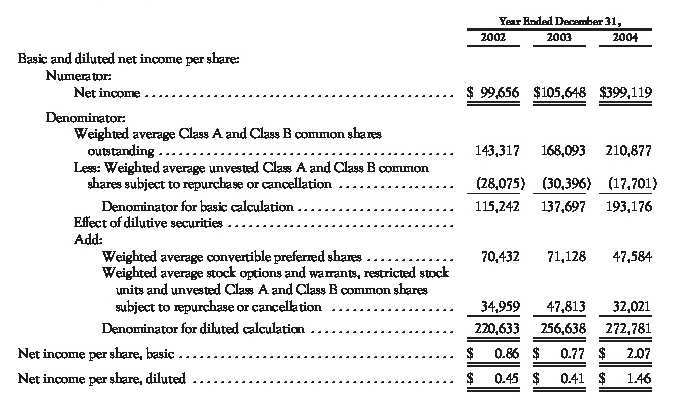table: (0, 0, 679, 404)
